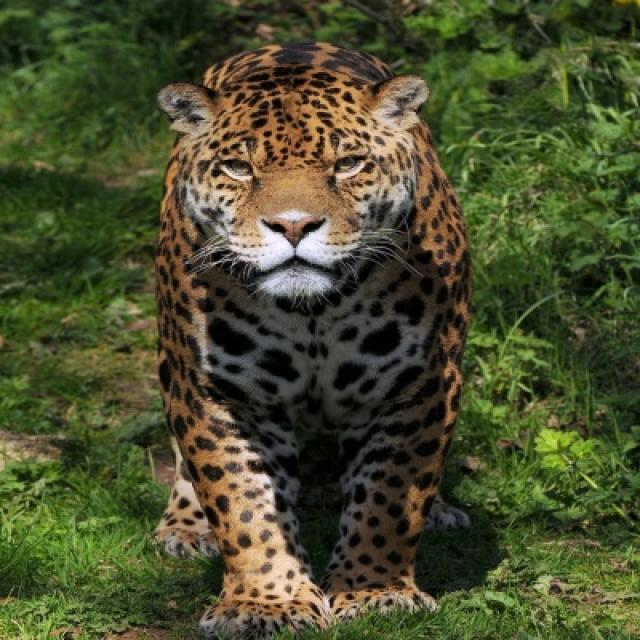Jaguar: (154, 42, 474, 638)
